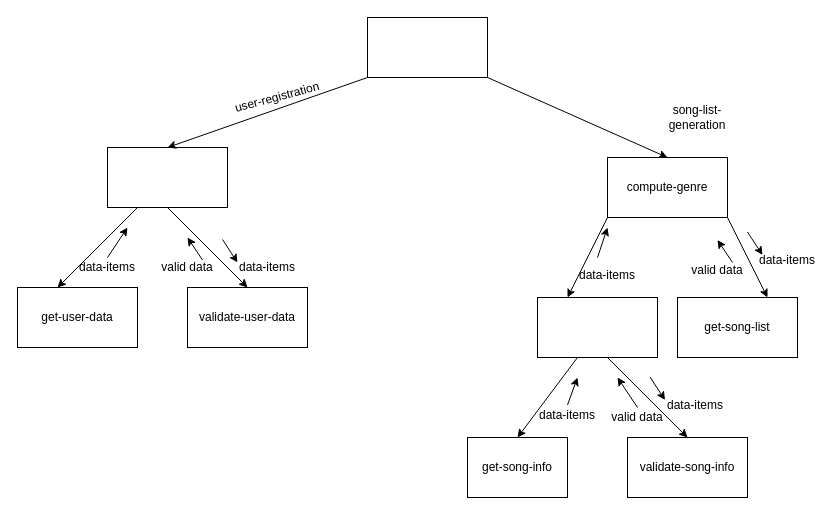
The diagram is 835 pixels wide and 515 high, and some of its shapes have lost their labels. The centre of each missing label's shape, as x and y in pixels:
register-user: (x=167, y=177)
Root: (x=427, y=47)
search-song: (x=597, y=327)
